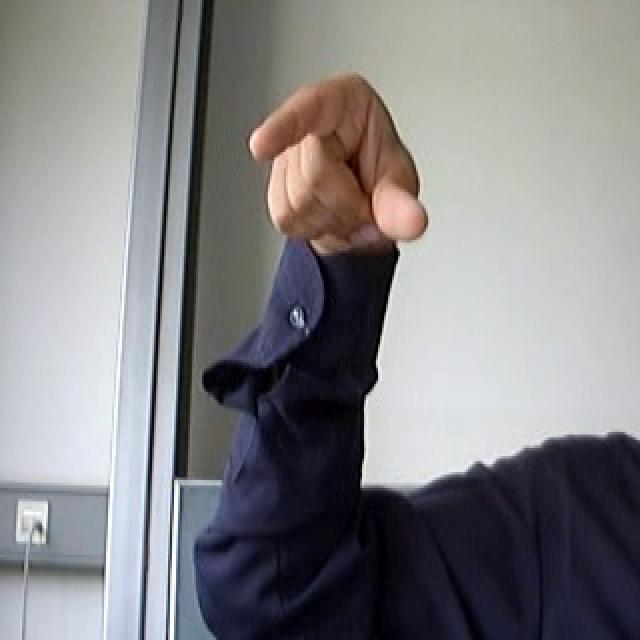Q: (243, 62, 438, 262)
